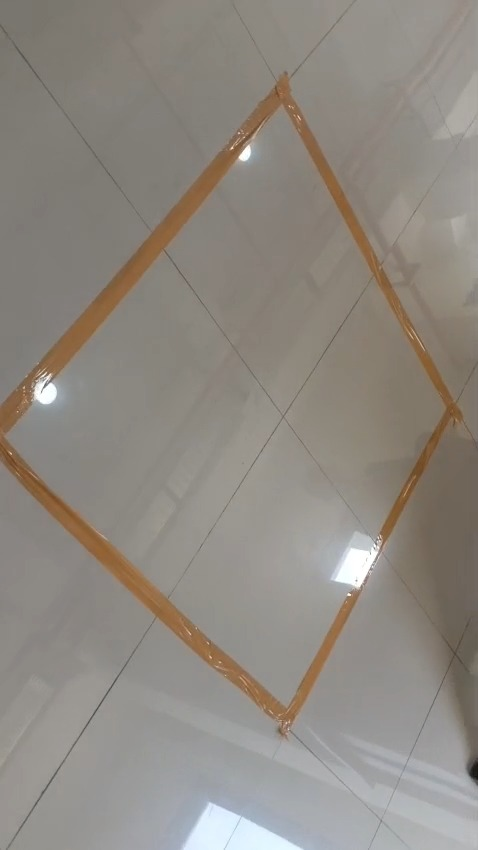floor marking: (0, 73, 462, 733)
